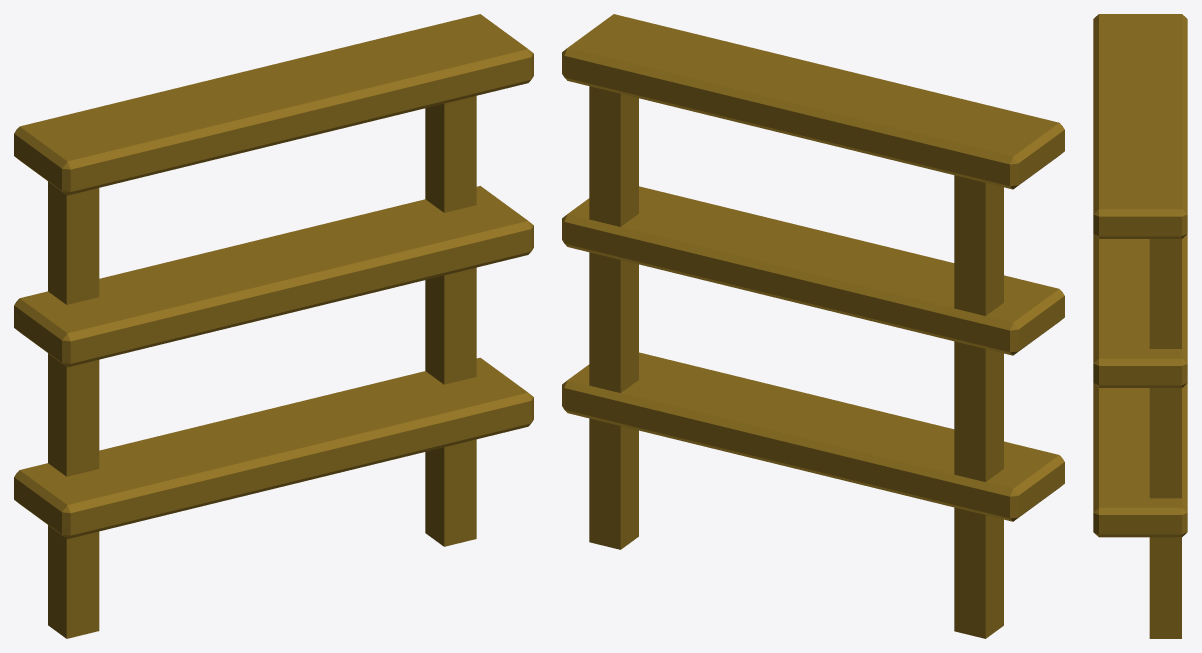
The model's file is Bakery Shelf.glb.
The picture shows the model from 3 angles, left to right: view 1: azimuth 30°, elevation 25°; view 2: azimuth 150°, elevation 25°; view 3: azimuth 270°, elevation 25°; orthographic projection. The views are drawn at different scales.
Parts seen in each view (by area): view 1: Showcase01_Bakery_Cube.007; view 2: Showcase01_Bakery_Cube.007; view 3: Showcase01_Bakery_Cube.007.
Part boxes in pixels (x1,y1,x2,y2): Showcase01_Bakery_Cube.007: (14, 14, 533, 638); Showcase01_Bakery_Cube.007: (562, 14, 1064, 638); Showcase01_Bakery_Cube.007: (1093, 14, 1187, 638).
Size of the model in its own units: 2.33 by 2.38 by 0.4643.
